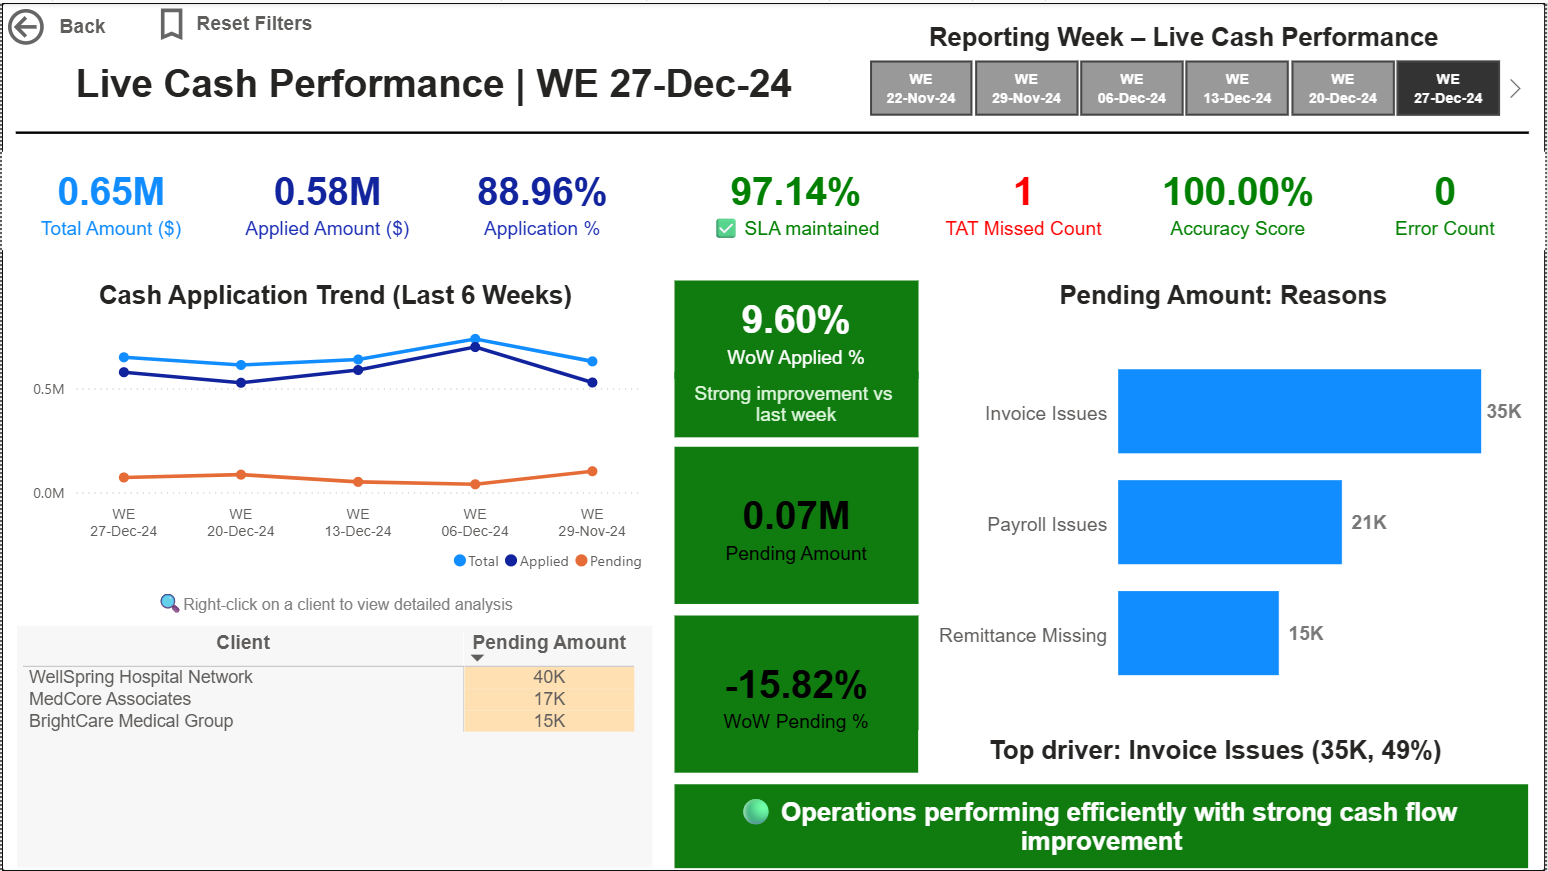

The page's visual inventory and layout, read from the dashboard file:
{"tool":"powerbi","page":{"name":"Live Cash Performance","canvas":[1280,720],"ordinal":1},"visuals":[{"type":"card","fields":{"Values":["Measures folder.Total Amount"]},"box":[0,123.7,181.3,81.7],"z":0},{"type":"card","fields":{"Values":["Measures folder.Applied Amount"]},"box":[178.9,123.7,181.3,81.7],"z":1000},{"type":"card","fields":{"Values":["Measures folder.Application %"]},"box":[357.8,123.7,181.3,81.7],"z":2000},{"type":"card","fields":{"Values":["Measures folder.TAT Achieved %"]},"box":[558.3,123.7,201.7,81.7],"z":3000},{"type":"shape","box":[11.9,101.1,1255,11.9],"z":4000},{"type":"card","fields":{"Values":["Measures folder.Accuracy % Live"]},"box":[934.8,123.7,180.1,81.7],"z":5000},{"type":"card","fields":{"Values":["Measures folder.TAT Missed Count"]},"box":[757.7,123.7,178.9,81.7],"z":6000},{"type":"card","fields":{"Values":["Measures folder.Error Count"]},"box":[1113.1,123.7,166.9,81.7],"z":7000},{"type":"lineChart","title":"Cash Application Trend (Last 6 Weeks)","fields":{"Category":["Dim_Date.WE Label"],"Y":["Measures folder.Total Amount","Measures folder.Applied Amount","Measures folder.Pending Amount"]},"box":[12,230.5,528.3,251],"z":8000},{"type":"clusteredBarChart","title":"Pending Amount: Reasons","fields":{"Category":["Live_cash_data.Pending_Category"],"Y":["Measures folder.Pending Amount"]},"box":[760.5,230.2,505.8,373.3],"z":9000},{"type":"slicer","title":"Reporting Week – Live Cash Performance","fields":{"Values":["Dim_Date.Week Label"]},"box":[694,16.8,572.8,84.1],"z":10000},{"type":"pivotTable","fields":{"Rows":["Dim_Client.Client_Name"],"Values":["Measures folder.Pending Amount"]},"box":[12,516.3,527.1,200.5],"z":11000},{"type":"card","fields":{"Values":["Measures folder.TAT Status"]},"box":[558.1,172.1,202.3,32.6],"z":12000},{"type":"card","fields":{"Values":["Measures folder.WoW Pending %"]},"box":[558.1,508.1,202.3,130.2],"z":13000},{"type":"card","fields":{"Values":["Measures folder.WoW Applied %"]},"box":[558.2,230.2,202.3,81.8],"z":14000,"group":"g1"},{"type":"card","fields":{"Values":["Measures folder.Pending Amount"]},"box":[558.1,368.6,202.3,130.2],"z":14000},{"type":"card","fields":{"Values":["Measures folder.Overall Status Display"]},"box":[558.1,647.7,708.1,69.8],"z":15000},{"type":"group","id":"g1","title":"Group 1","box":[558.1,230.2,202.5,130],"z":16000},{"type":"card","fields":{"Values":["Measures folder.Top Issue"]},"box":[760.5,603.5,493,34.9],"z":17000},{"type":"actionButton","box":[0,0,90.1,39.6],"z":18000},{"type":"card","fields":{"Values":["Measures folder.WoW Insight"]},"box":[558.1,305.5,202.3,54.7],"z":18000,"group":"g1"},{"type":"card","fields":{"Values":["Measures folder.Selected Week Short"]},"box":[12,34.8,691.6,61.2],"z":19000},{"type":"actionButton","box":[123.7,0,138.1,34.8],"z":20000},{"type":"textbox","box":[12,481.5,527.1,34.8],"z":21000}]}

Visuals, with their boxes in screenshot pixels (x1, y1, x2, y2), scaled from the page's 1280x720 canvas onto the 1548x871 screenshot:
card - Measures folder.Total Amount: <bbox>0, 150, 219, 248</bbox>
card - Measures folder.Applied Amount: <bbox>216, 150, 436, 248</bbox>
card - Measures folder.Application %: <bbox>433, 150, 652, 248</bbox>
card - Measures folder.TAT Achieved %: <bbox>675, 150, 919, 248</bbox>
shape: <bbox>14, 122, 1532, 137</bbox>
card - Measures folder.Accuracy % Live: <bbox>1131, 150, 1348, 248</bbox>
card - Measures folder.TAT Missed Count: <bbox>916, 150, 1133, 248</bbox>
card - Measures folder.Error Count: <bbox>1346, 150, 1547, 248</bbox>
"Cash Application Trend (Last 6 Weeks)" lineChart: <bbox>15, 279, 653, 582</bbox>
"Pending Amount: Reasons" clusteredBarChart: <bbox>920, 278, 1531, 730</bbox>
"Reporting Week – Live Cash Performance" slicer: <bbox>839, 20, 1532, 122</bbox>
pivotTable - Dim_Client.Client_Name x Measures folder.Pending Amount: <bbox>15, 625, 652, 867</bbox>
card - Measures folder.TAT Status: <bbox>675, 208, 920, 248</bbox>
card - Measures folder.WoW Pending %: <bbox>675, 615, 920, 772</bbox>
card - Measures folder.WoW Applied %: <bbox>675, 278, 920, 377</bbox>
card - Measures folder.Pending Amount: <bbox>675, 446, 920, 603</bbox>
card - Measures folder.Overall Status Display: <bbox>675, 784, 1531, 868</bbox>
"Group 1" group: <bbox>675, 278, 920, 436</bbox>
card - Measures folder.Top Issue: <bbox>920, 730, 1516, 772</bbox>
actionButton: <bbox>0, 0, 109, 48</bbox>
card - Measures folder.WoW Insight: <bbox>675, 370, 920, 436</bbox>
card - Measures folder.Selected Week Short: <bbox>15, 42, 851, 116</bbox>
actionButton: <bbox>150, 0, 317, 42</bbox>
textbox: <bbox>15, 582, 652, 625</bbox>
